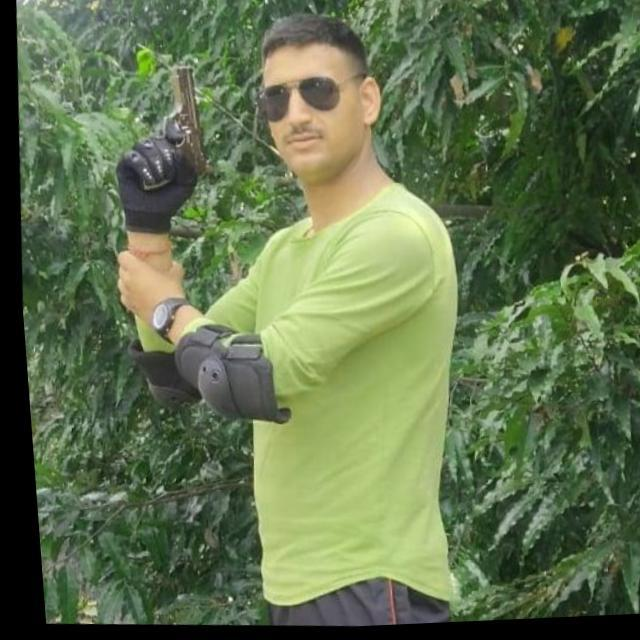weapon: (123, 60, 220, 202)
